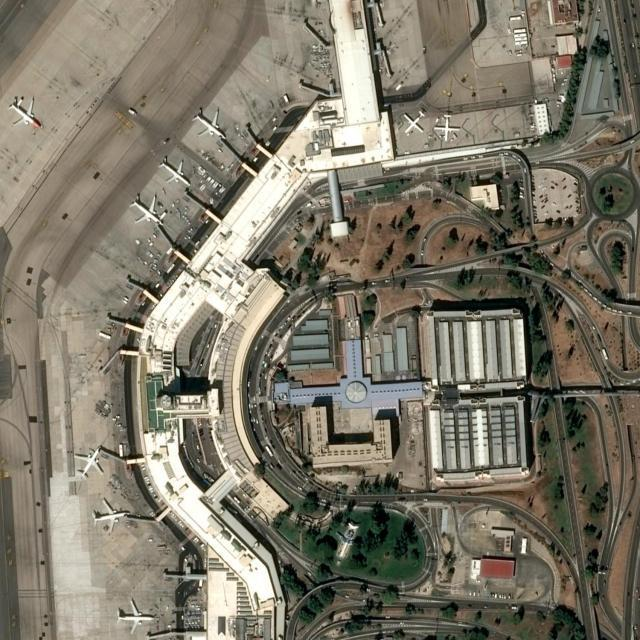Aircraft: (114, 597, 158, 633), (11, 96, 45, 133), (92, 497, 128, 531), (130, 195, 167, 227), (74, 445, 106, 481), (195, 108, 228, 140), (159, 156, 193, 186), (435, 112, 461, 144), (402, 109, 430, 137)
